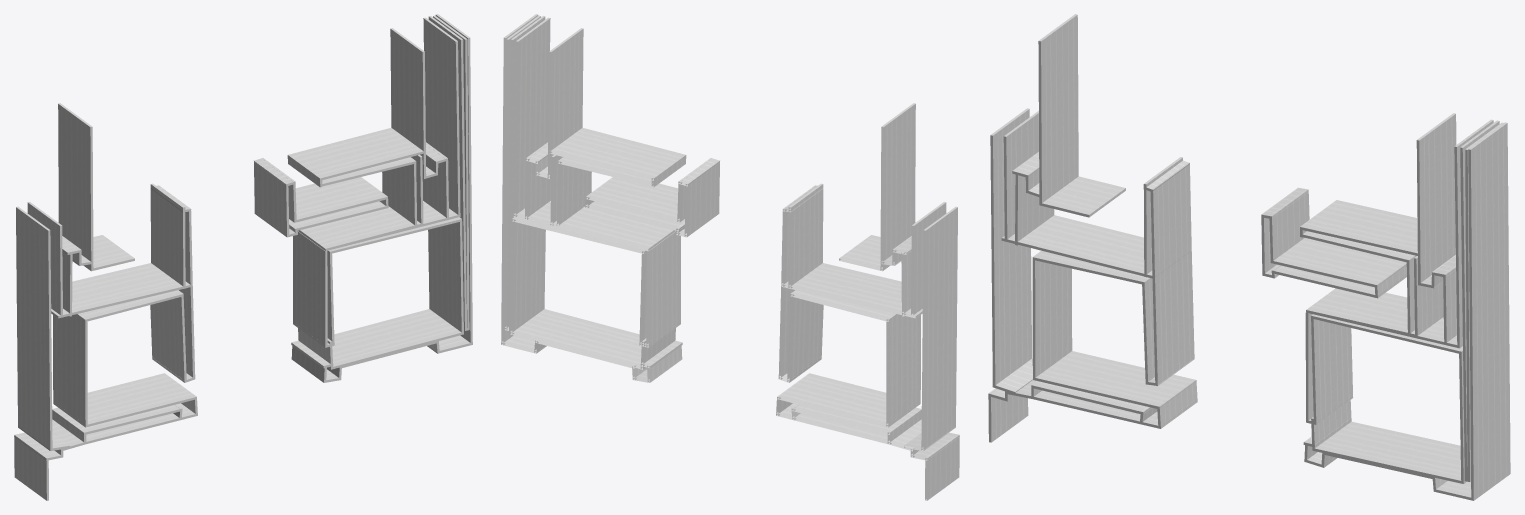
File: wall_1.obj
3 views of the same model, side by side, from view 1: azimuth 30°, elevation 25°; view 2: azimuth 150°, elevation 25°; view 3: azimuth 330°, elevation 25° (orthographic). The views are drawn at different scales.
Parts seen in each view (by area): view 1: walls; view 2: walls; view 3: walls.
Part boxes in pixels (x1,y1,x2,y2): walls: (14, 14, 472, 500); walls: (501, 14, 959, 500); walls: (988, 14, 1510, 500).
Bounding box in the file's own units: 19.04 × 15.49 × 2.5.
